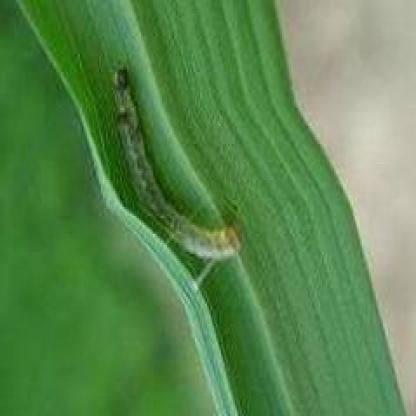leaf-folder: (100, 52, 260, 278)
